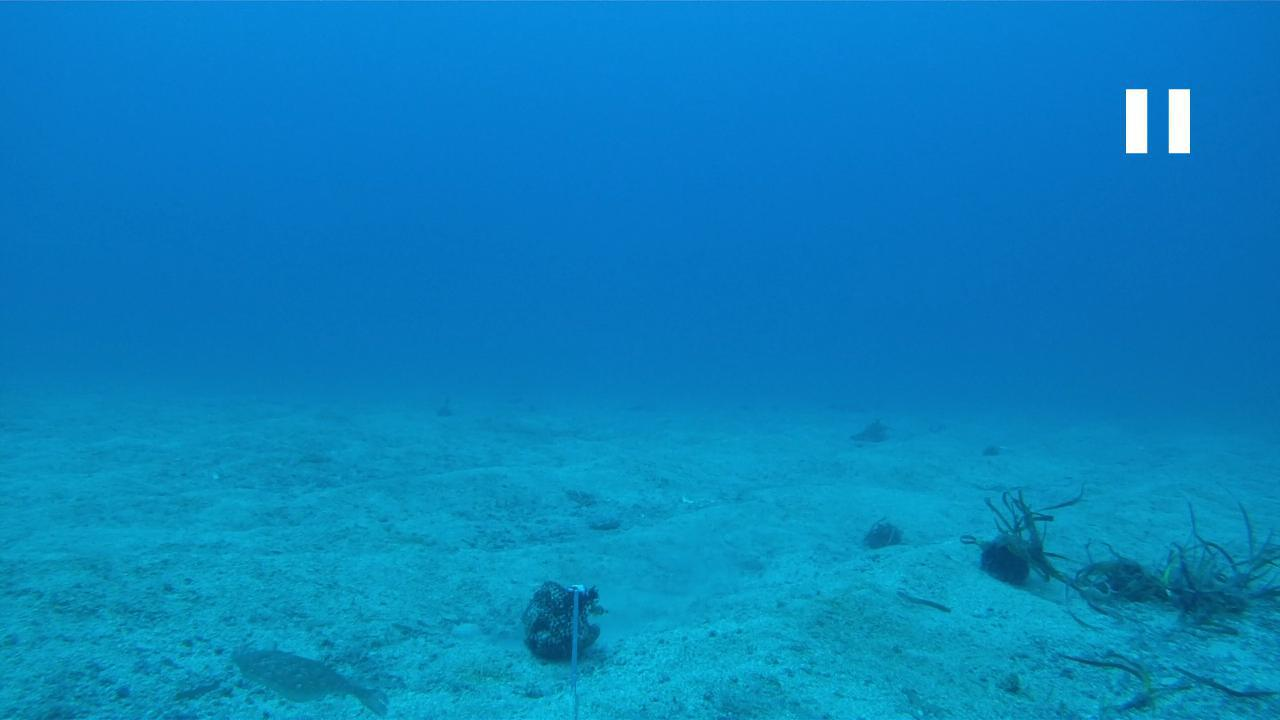bothus: (229, 650, 398, 719)
